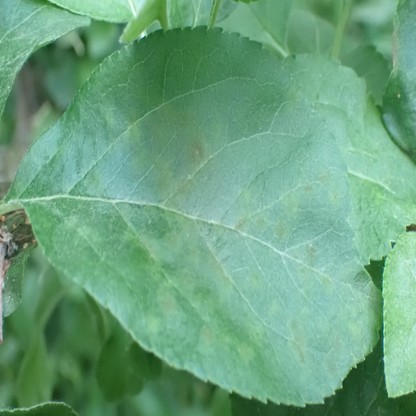scab: (100, 100, 139, 143), (317, 318, 343, 374), (153, 97, 178, 147), (163, 207, 190, 247), (186, 130, 211, 171), (288, 310, 307, 359), (120, 228, 156, 253), (206, 256, 231, 292), (294, 241, 316, 279), (154, 160, 171, 193), (145, 256, 164, 282), (156, 288, 174, 315), (198, 325, 214, 355), (248, 321, 267, 346), (176, 269, 193, 295), (282, 87, 300, 111), (237, 345, 256, 366), (77, 227, 98, 245), (179, 175, 196, 196), (392, 34, 400, 78), (327, 180, 340, 205), (88, 167, 102, 190), (235, 214, 248, 238), (248, 267, 262, 288), (274, 221, 290, 239), (286, 194, 301, 211), (264, 298, 279, 315), (185, 248, 198, 267), (321, 275, 335, 292), (147, 316, 159, 333), (63, 216, 76, 231), (347, 320, 360, 334), (256, 217, 266, 233), (240, 188, 252, 201), (304, 183, 314, 194)
